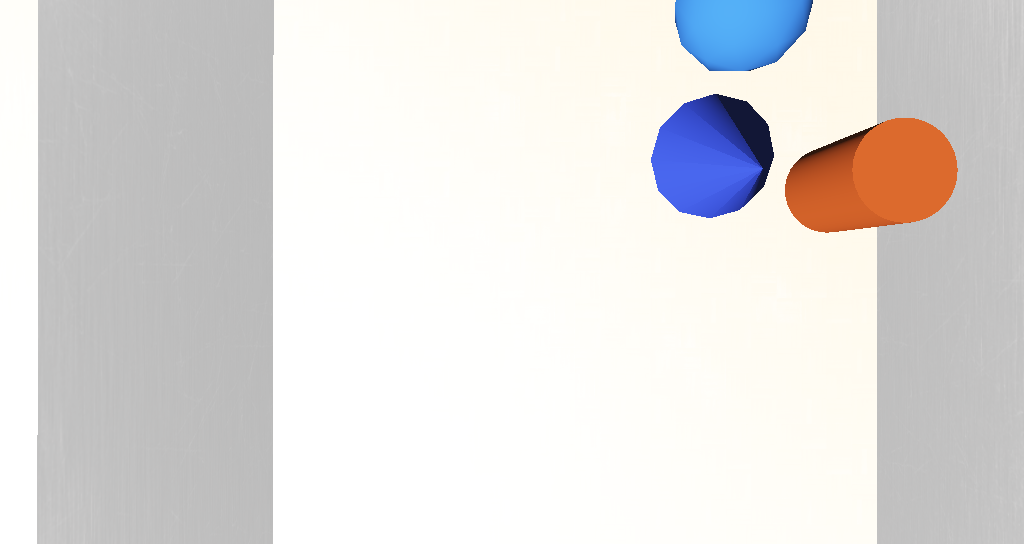cone: (613, 222, 667, 255)
cylinder: (546, 200, 613, 258)
sphere: (556, 160, 616, 203)
